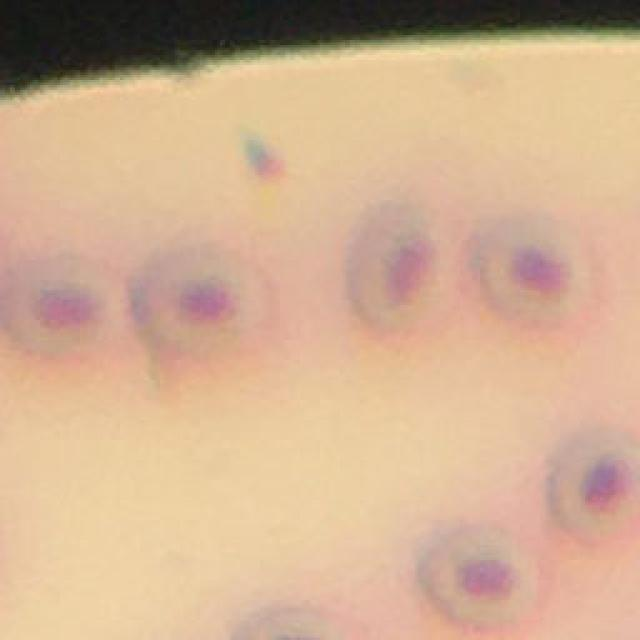RBC: (132, 240, 281, 372), (463, 200, 601, 334), (346, 193, 448, 339), (416, 521, 548, 630), (0, 248, 130, 357), (544, 418, 640, 550)
